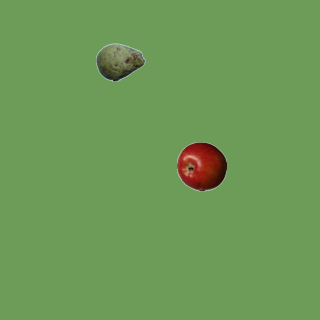Apple Braeburn: (176, 141, 226, 191)
Pear Stone: (95, 37, 145, 87)
